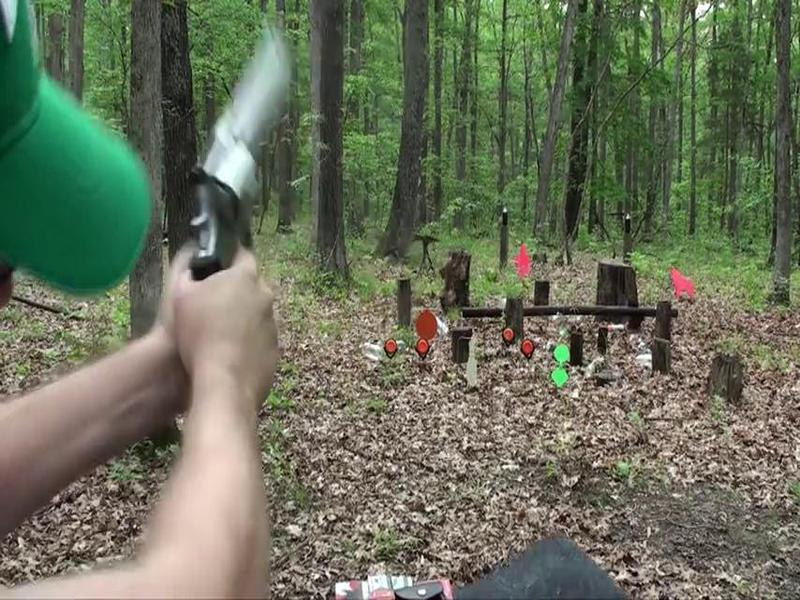Revolver: (171, 18, 292, 303)
